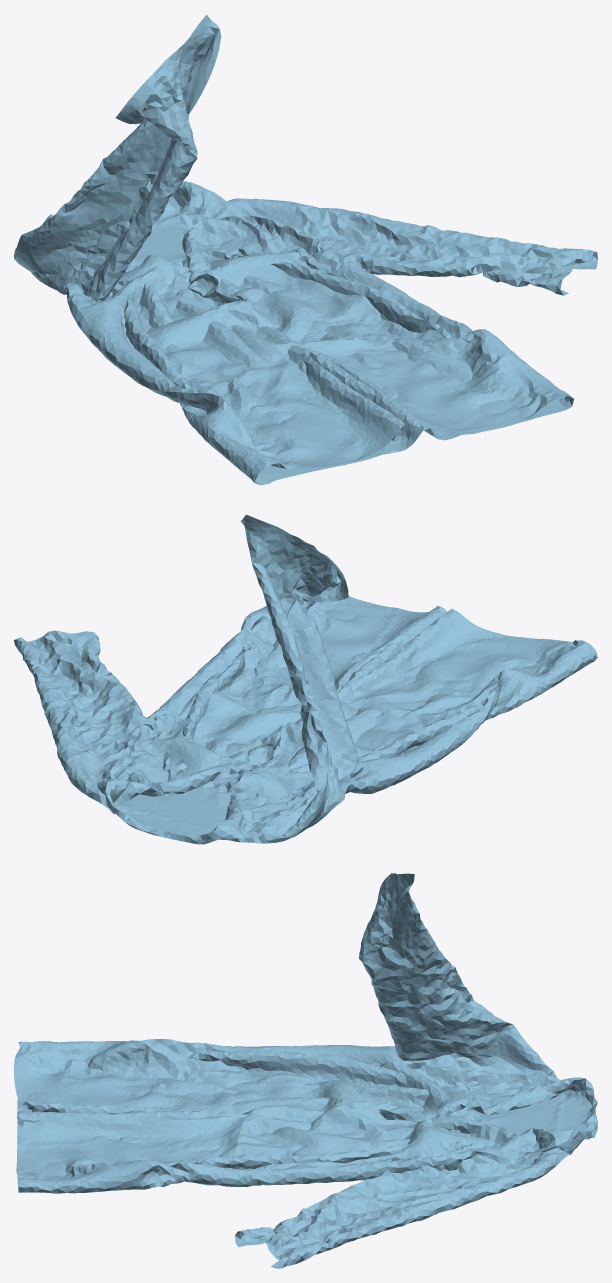
File: frame_14.glb
3 renders of one model, top to bottom at view 1: azimuth 30°, elevation 25°; view 2: azimuth 150°, elevation 25°; view 3: azimuth 270°, elevation 25°, orthographic. The views are drawn at different scales.
Parts seen in each view (by area): view 1: frame_14.obj; view 2: frame_14.obj; view 3: frame_14.obj.
Part boxes in pixels (bbox=[...]): frame_14.obj: bbox=[14, 15, 597, 485]; frame_14.obj: bbox=[14, 514, 597, 844]; frame_14.obj: bbox=[14, 873, 597, 1268].
Bounding box in the file's own units: 1.49 × 0.8086 × 1.68.
